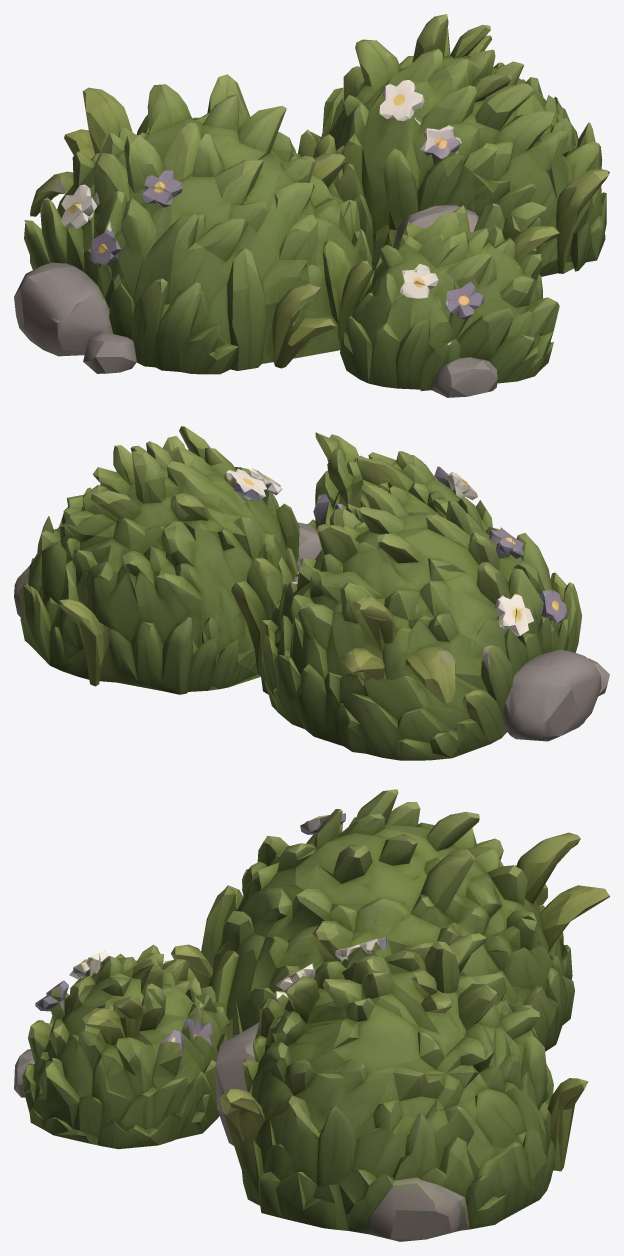
File: meadowGrass.glb
3 renders of one model, top to bottom at view 1: azimuth 30°, elevation 25°; view 2: azimuth 150°, elevation 25°; view 3: azimuth 270°, elevation 25°, orthographic. The views are drawn at different scales.
Visible parts, largest first — view 1: Mesh_0; view 2: Mesh_0; view 3: Mesh_0.
Boxes of the visible parts, x1=… form: Mesh_0: x1=14, y1=14, x2=609, y2=397; Mesh_0: x1=14, y1=426, x2=609, y2=760; Mesh_0: x1=14, y1=789, x2=609, y2=1241.
Bounding box in the file's own units: 1.2 × 0.4092 × 0.9673.
Materials: 1 (1 with a texture image).
